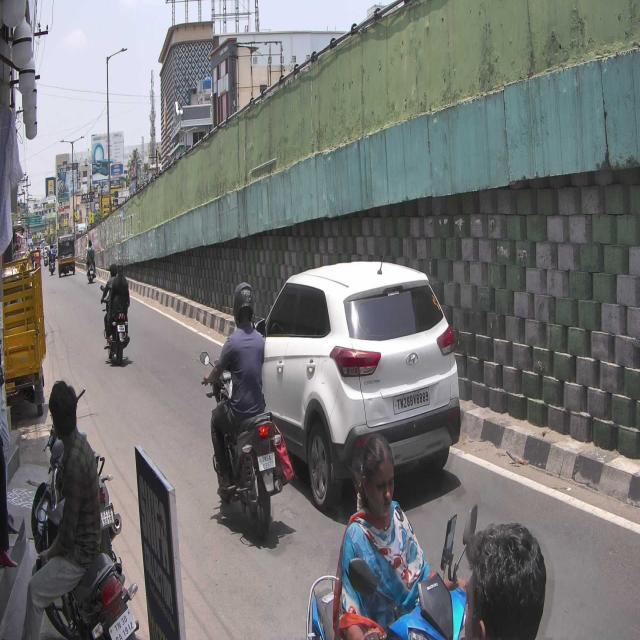single_rider: (199, 280, 294, 537)
